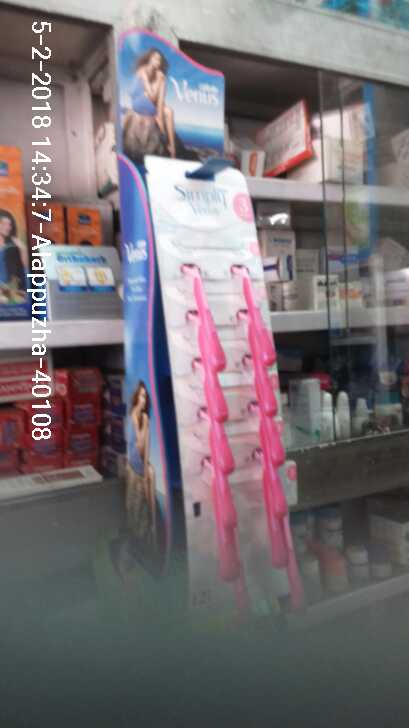reject: (240, 156, 370, 357)
